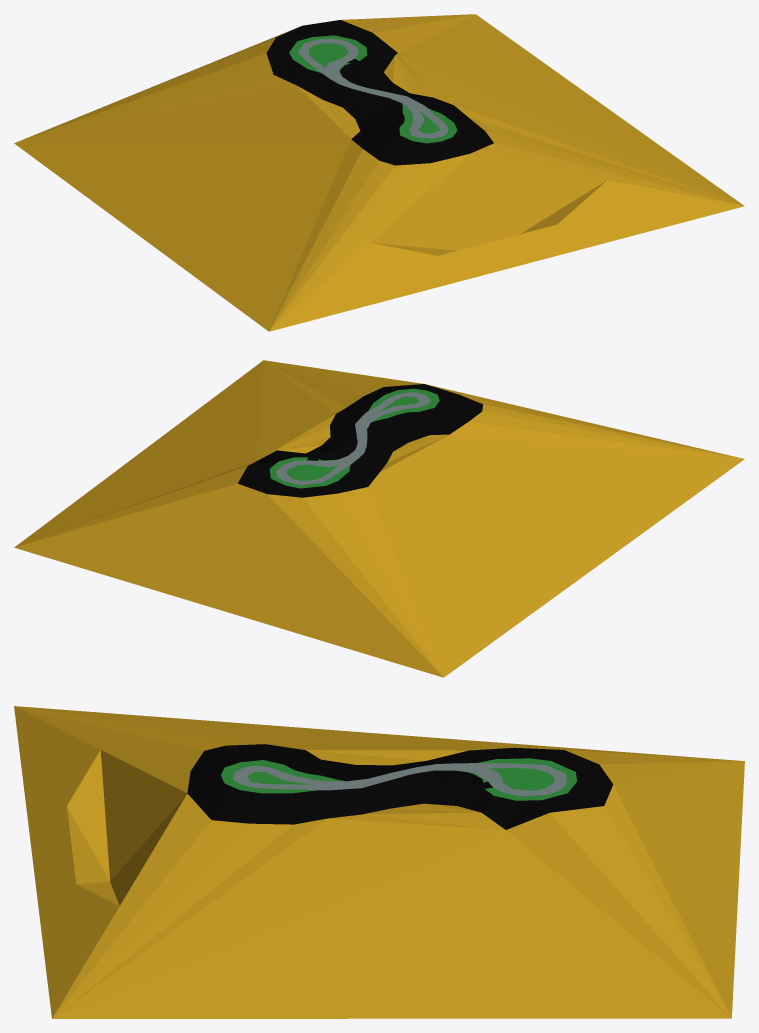
File: track.dae
3 renders of one model, top to bottom at view 1: azimuth 30°, elevation 25°; view 2: azimuth 150°, elevation 25°; view 3: azimuth 270°, elevation 25°, orthographic. The views are drawn at different scales.
Visible parts, largest first — view 1: Track; view 2: Track; view 3: Track.
Part boxes in pixels (x1=…): Track: x1=14, y1=14, x2=744, y2=331; Track: x1=14, y1=360, x2=744, y2=677; Track: x1=14, y1=706, x2=744, y2=1018.
Bounding box in the file's own units: 94.15 × 94.91 × 17.91.
